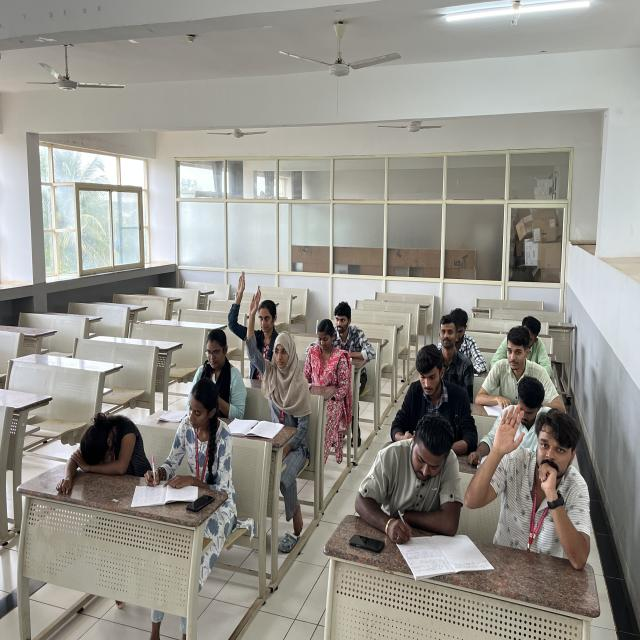Hand Rising: (473, 390, 617, 584), (243, 289, 315, 515), (220, 264, 299, 413)
Reading: (354, 422, 480, 586), (134, 393, 256, 545)
Sleeping: (44, 397, 157, 507)
